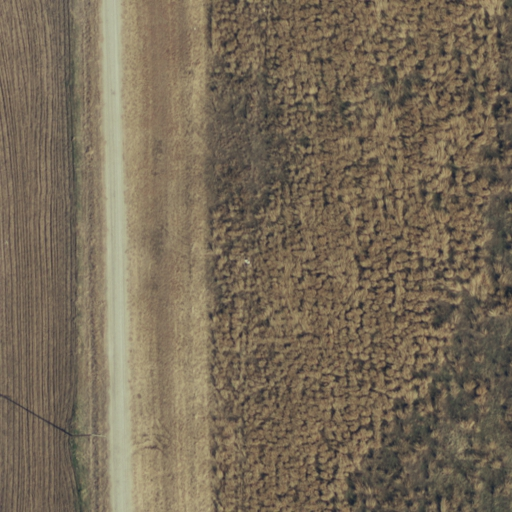DT: (64, 425, 107, 447)
